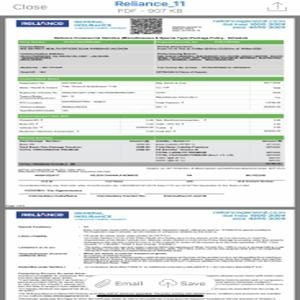image: (15, 19, 72, 29), (15, 209, 70, 219)
table: (17, 76, 284, 113), (18, 39, 286, 74), (16, 137, 285, 167), (16, 113, 284, 134)
text: (211, 17, 287, 30), (211, 210, 289, 221)
